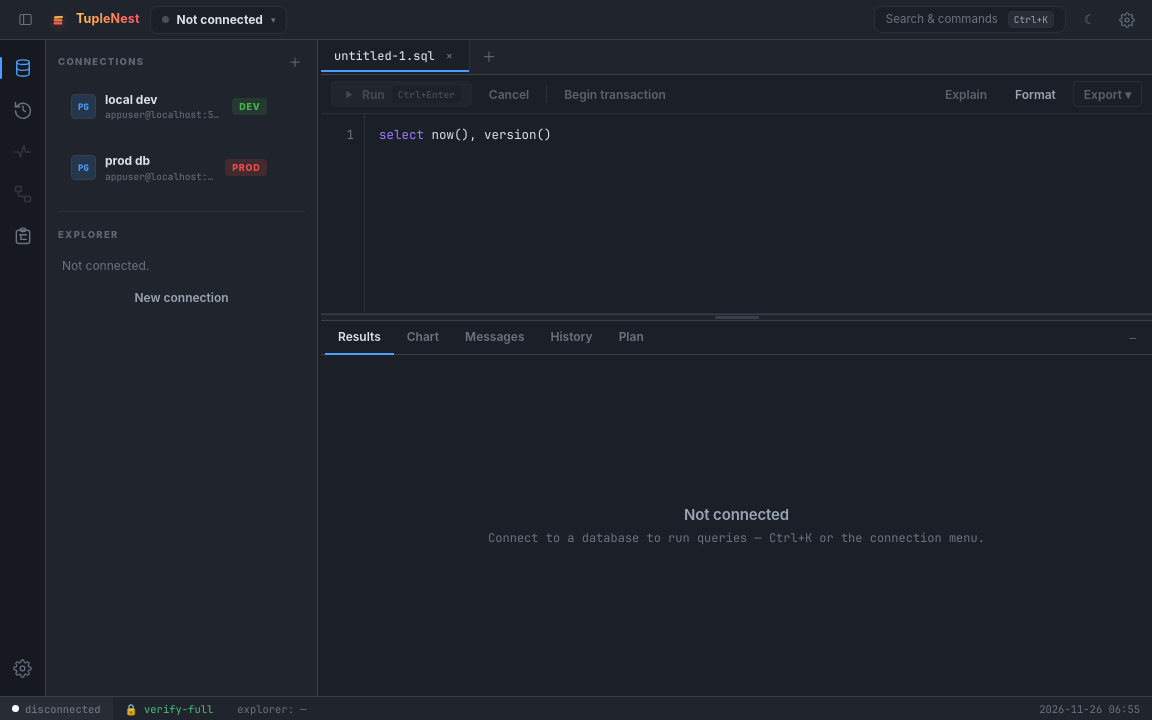
Test: App — running a query › reports a failed statement rather than an empty grid
expect the text "local dev" is shown: met, box [105,91,158,108]
Type keys "{Meta>}k{/Meta}"
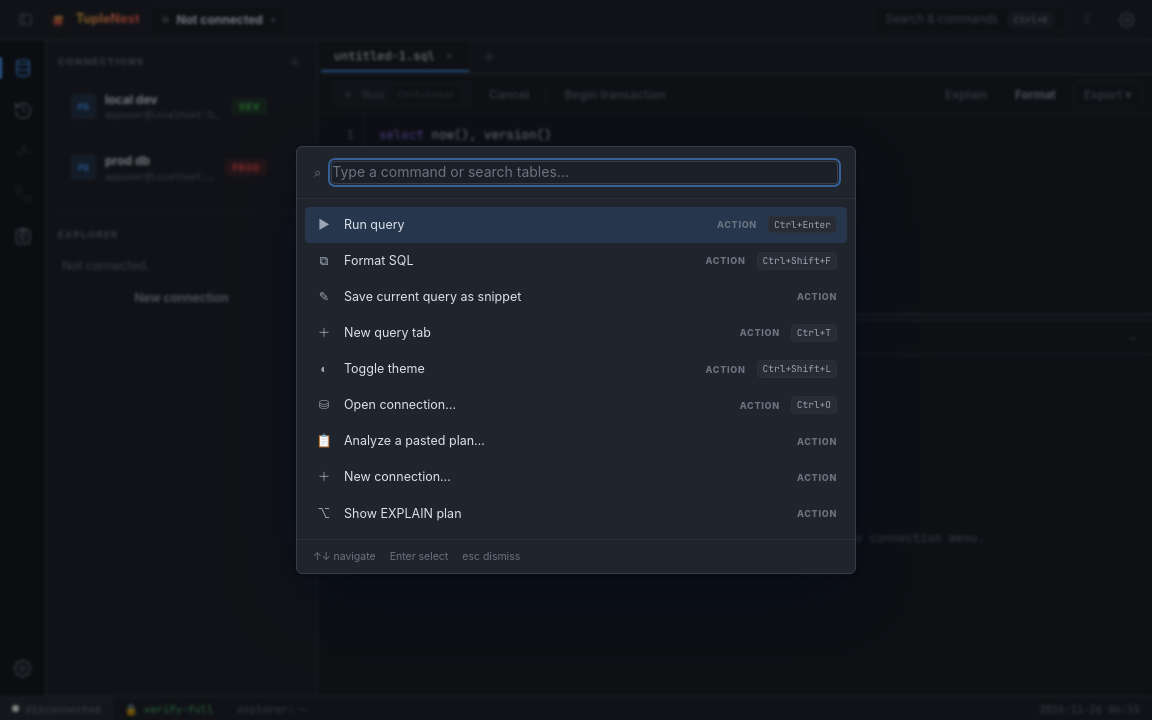
Type "Connect to local dev" into the field with placeholder "Type a command or search tables…" at (585, 172), box [331,161,838,184]
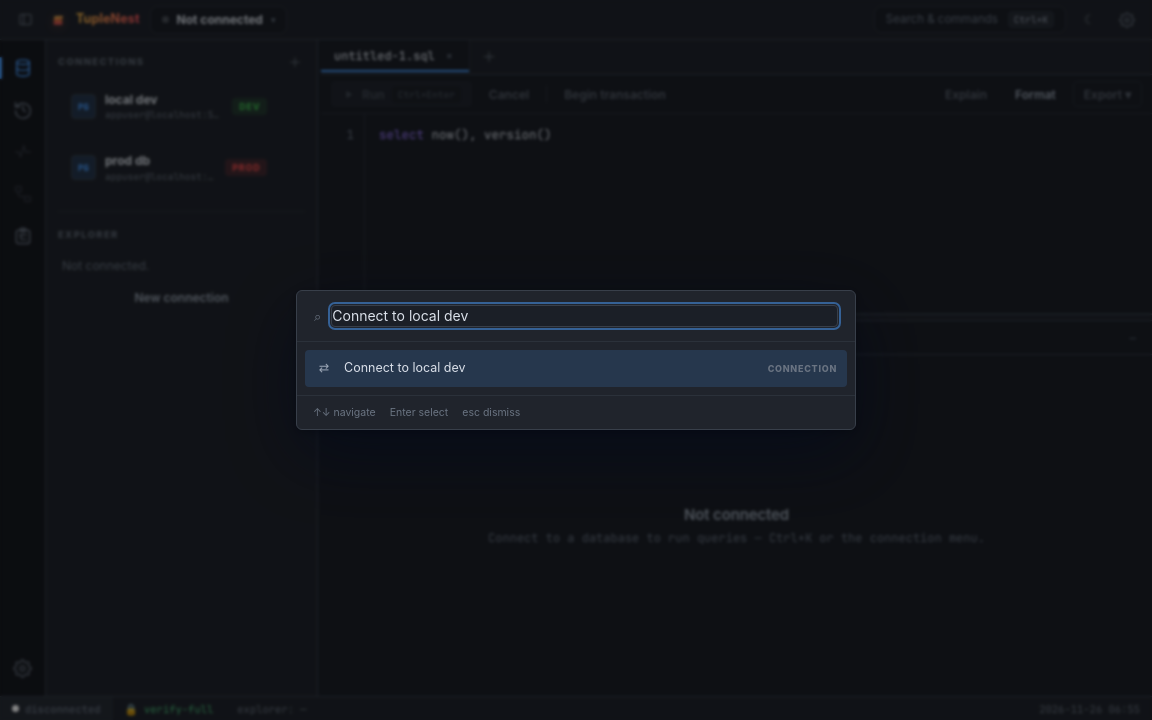
Press Enter
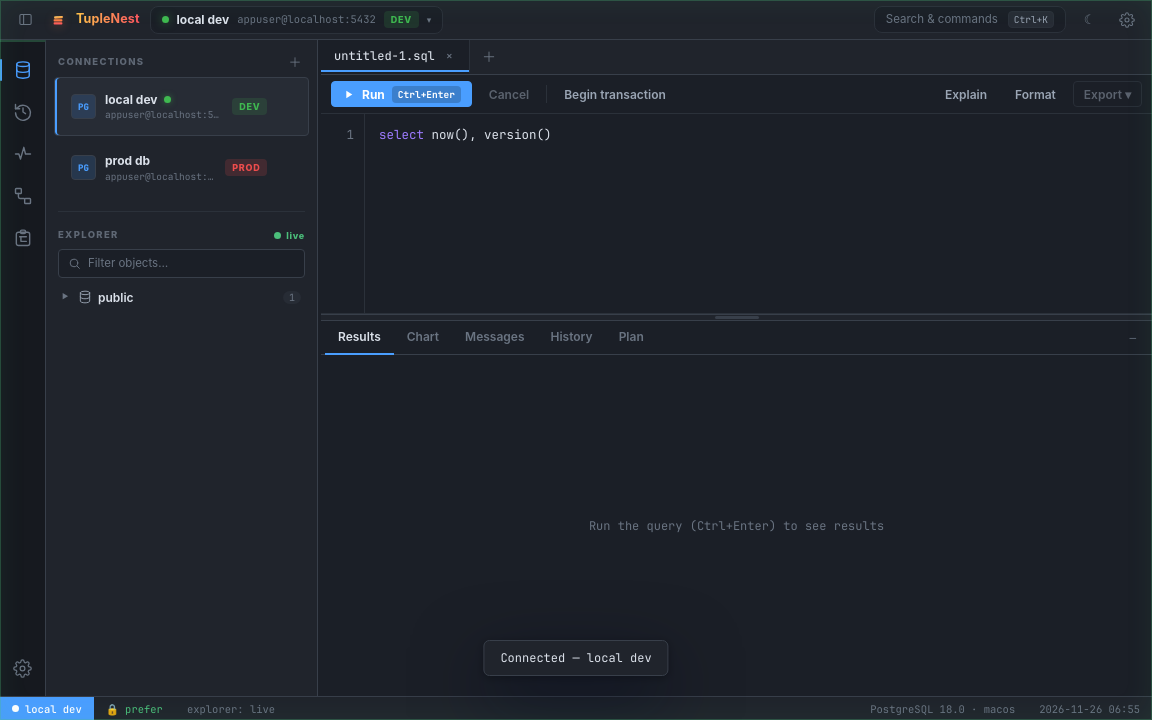
Replace the text in the text box named "sql editor" with "select * from nope" at (736, 214), box [321,114,1151,313]
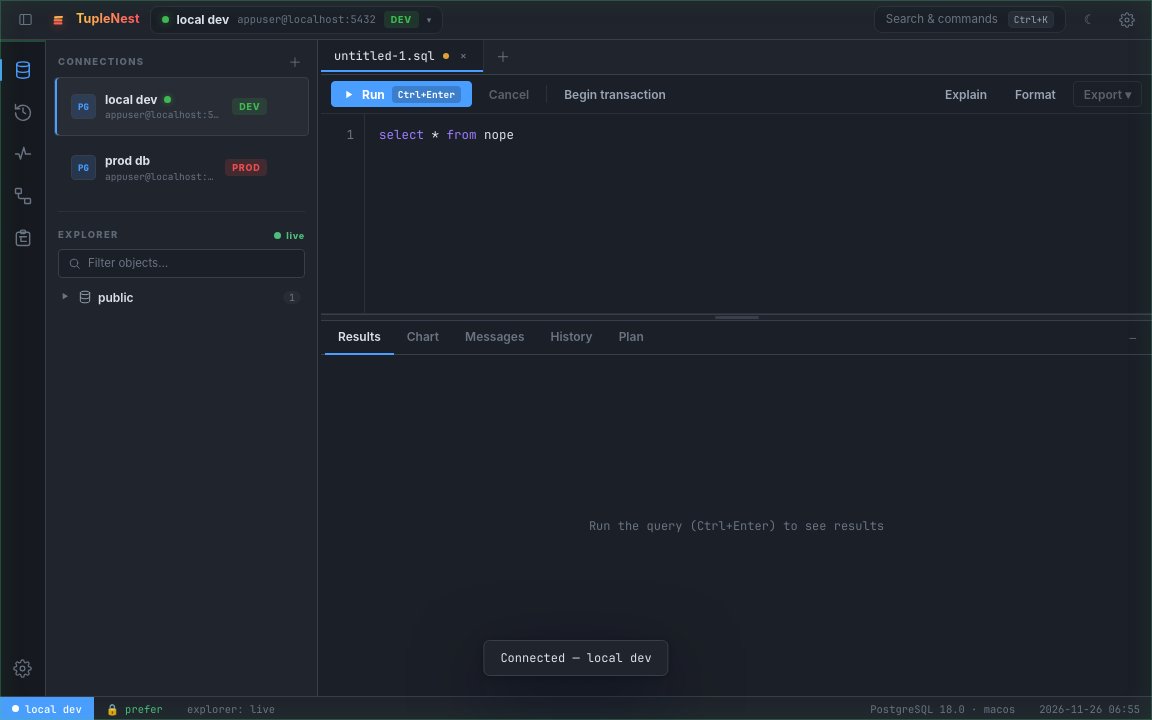
Click the button "Run Ctrl+Enter" at (401, 94), box [331,81,472,107]
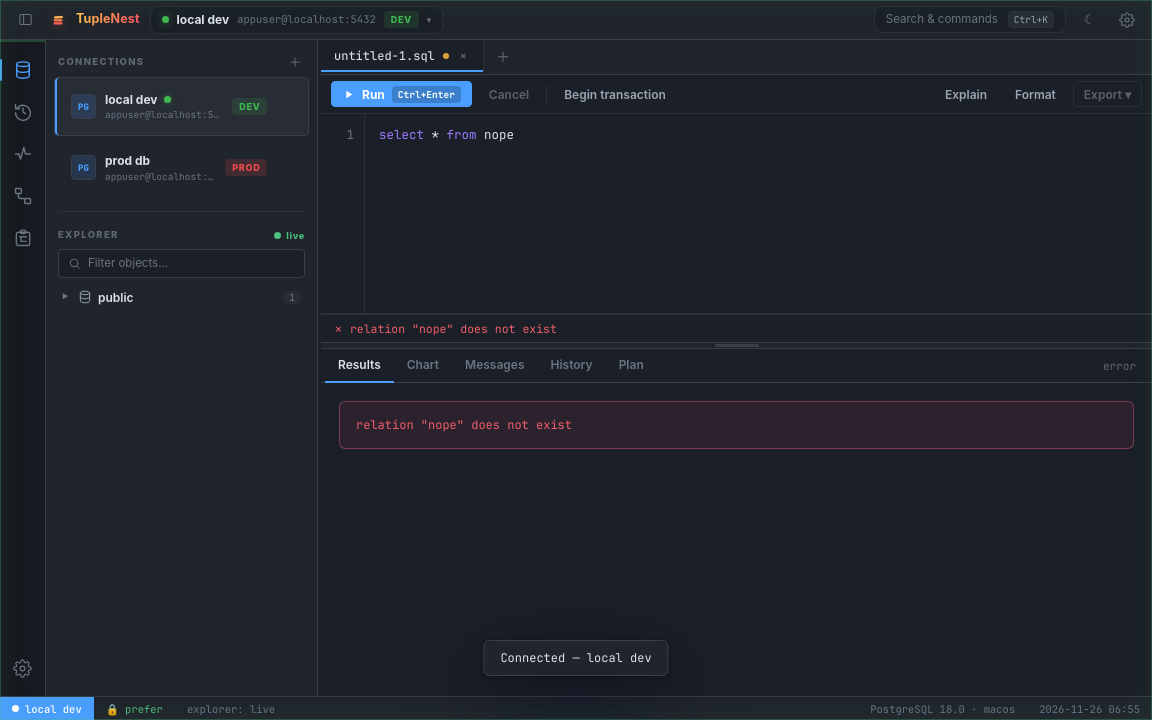
expect the text "relation \"nope\" does not exist" below "select" is shown: met, box [350,321,557,336]
